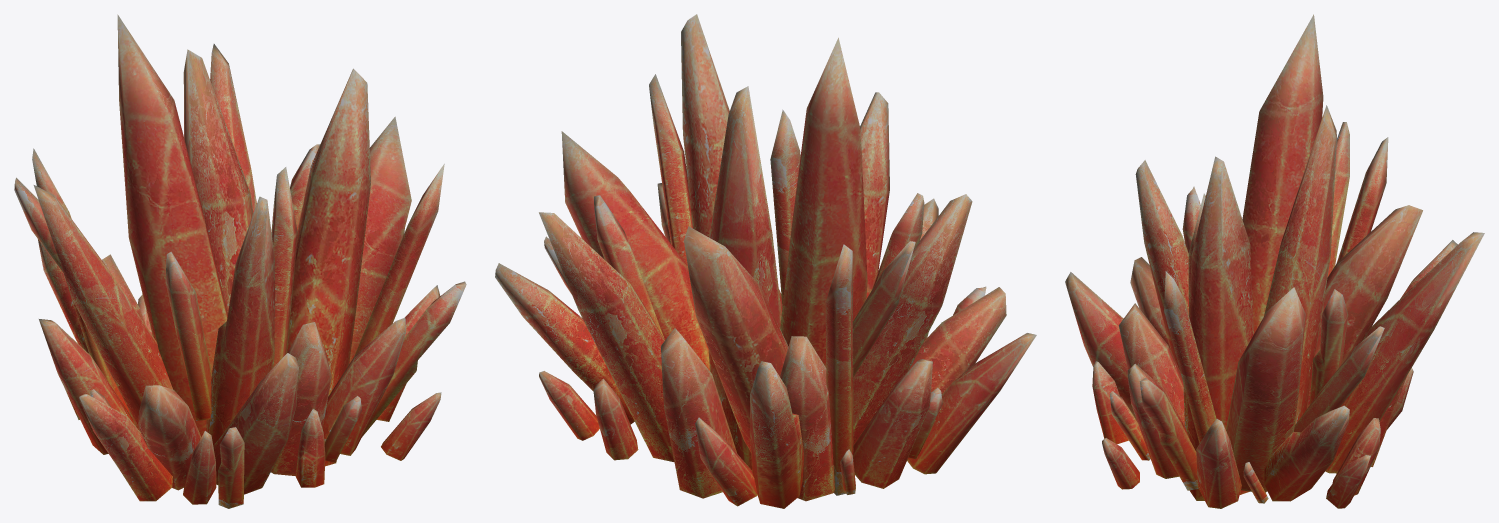
The model's file is crystals_var6.obj.
The picture shows the model from 3 angles, left to right: view 1: azimuth 30°, elevation 25°; view 2: azimuth 150°, elevation 25°; view 3: azimuth 270°, elevation 25°; orthographic projection. The views are drawn at different scales.
Parts seen in each view (by area): view 1: crystals_var6; view 2: crystals_var6; view 3: crystals_var6.
Part boxes in pixels (x1,y1,x2,y2): crystals_var6: (14,14,466,508); crystals_var6: (495,14,1036,508); crystals_var6: (1065,14,1484,508).
Size of the model in its own units: 200 by 204 by 187.
1 material, 1 textured.
